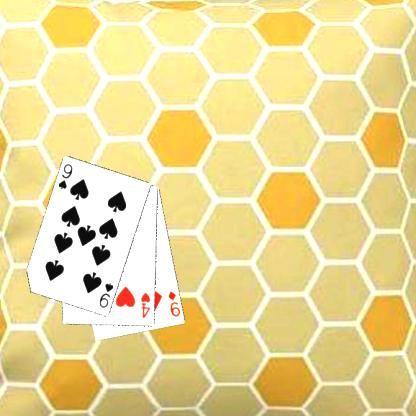4H: (138, 290, 152, 319)
9D: (165, 289, 181, 318)
9S: (97, 280, 115, 309), (56, 162, 74, 190)
